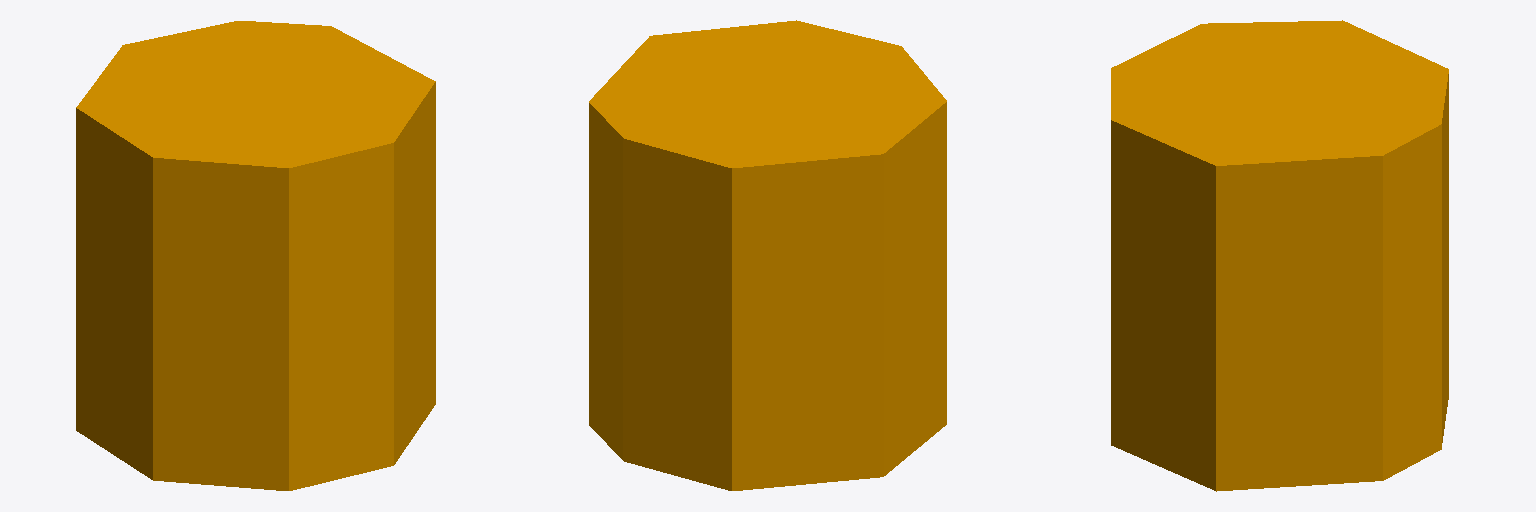
The robot description file, URDF, robot "object":
<?xml version="1.0"?>
<robot name="object">
  <link name="object">
    <visual>
      <origin xyz="0 0 0"/>
      <geometry>
        <mesh filename="meshes/generated/col_015.obj" scale="0.03 0.03 0.03"/>
      </geometry>
    </visual>
    <collision>
      <origin xyz="0 0 0"/>
      <geometry>
        <mesh filename="meshes/generated/col_015.obj" scale="0.03 0.03 0.03"/>
      </geometry>
    </collision>
    <inertial>
      <density value="1000.0"/>
    </inertial>
  </link>
</robot>

--- What the picture shows (computed from the rendered views, not written in the file) ---
Views: 3 orthographic renders of the robot side by side, from view 1: azimuth 30°, elevation 25°; view 2: azimuth 150°, elevation 25°; view 3: azimuth 270°, elevation 25°.
Model object with 1 links and 0 joints (none), rooted at object, posed every joint at zero.
Visible links, largest first — view 1: object; view 2: object; view 3: object.
Link boxes in pixels (<box>): object: <box>76,21,435,490</box>; object: <box>589,20,946,490</box>; object: <box>1111,20,1448,491</box>.
Size in the robot's own frame: 0.0576 by 0.0566 by 0.06 metres.
Meshes: 1 distinct files referenced, 1 mesh visuals loaded (1 OBJ).
